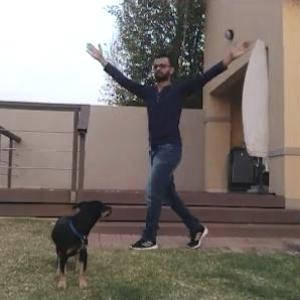takeoff: (80, 37, 254, 252)
